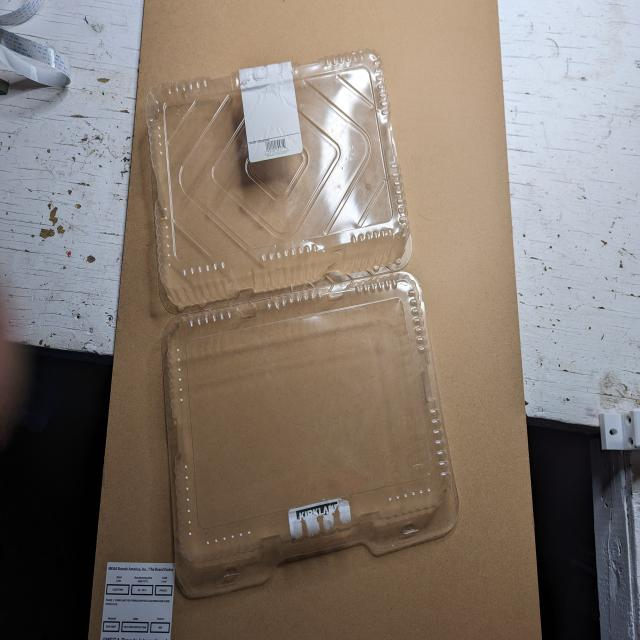Clamshell: (133, 44, 466, 602)
Label: (237, 59, 305, 164), (281, 483, 359, 548)
